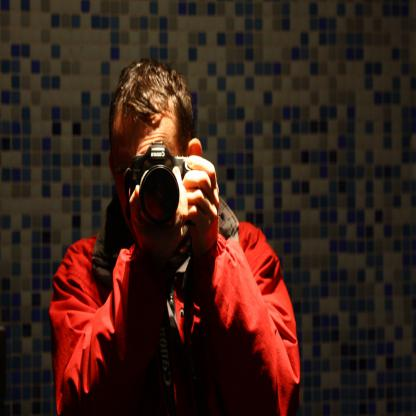Camera: (118, 145, 197, 231)
